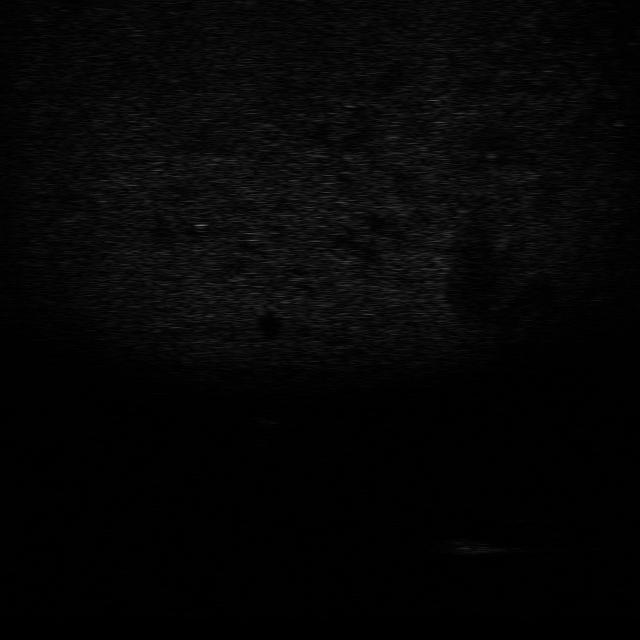ball: (250, 408, 289, 428)
metal bucket: (438, 532, 514, 558)
tyre: (500, 491, 554, 526)
